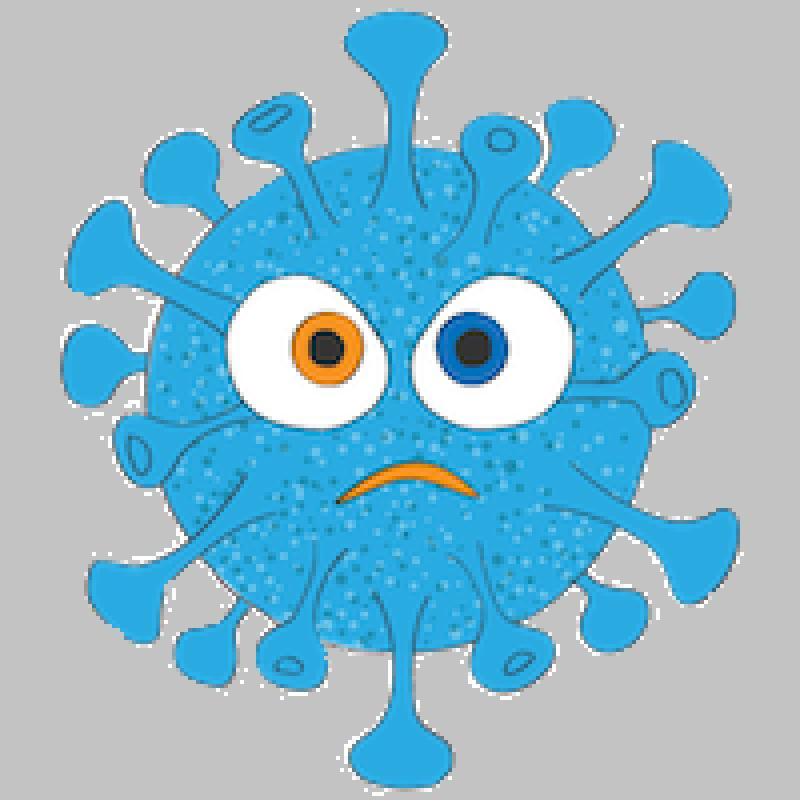corona2: (4, 4, 796, 796)
